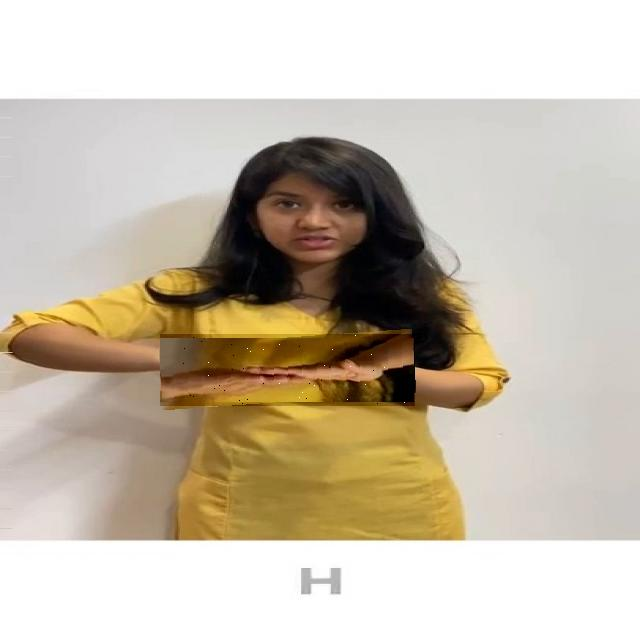H: (160, 334, 415, 406)
